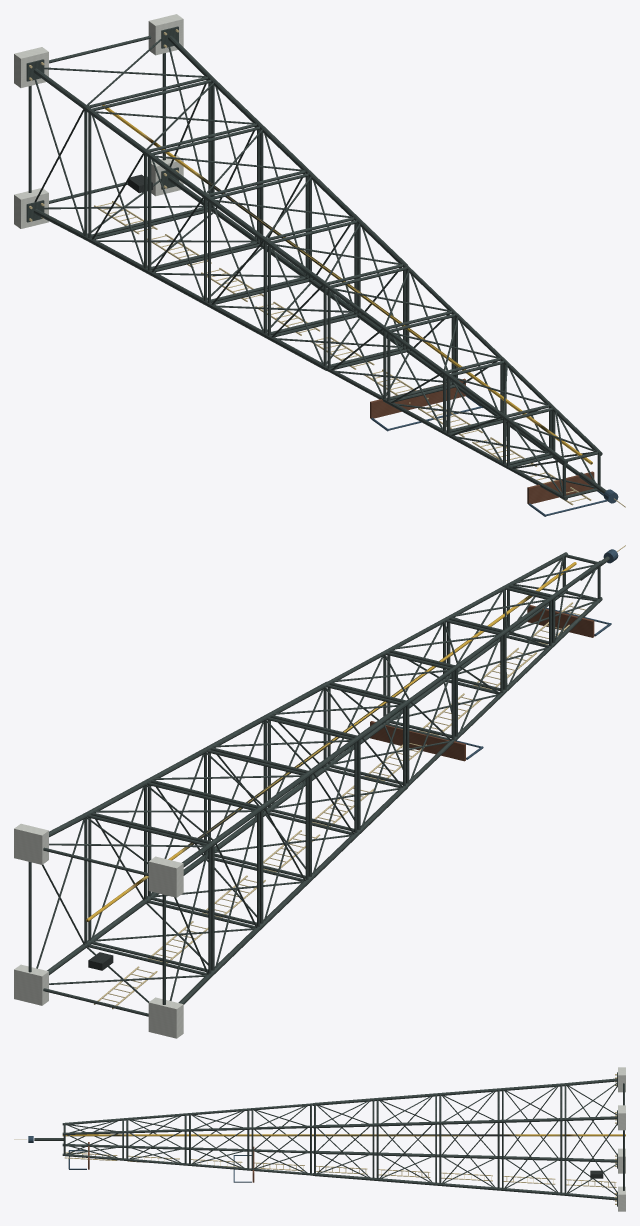
Rendered from RADIO_TOWER_local.glb.
3 views of the same model, one above another, from view 1: azimuth 30°, elevation 25°; view 2: azimuth 150°, elevation 25°; view 3: azimuth 270°, elevation 25° (orthographic). The views are drawn at different scales.
Parts seen in each view (by area): view 1: TOWER_TRUSS_TIER_02_HorizontalRings, TOWER_TRUSS_TIER_01_HorizontalRings, TOWER_TRUSS_TIER_03_HorizontalRings, TOWER_TRUSS_TIER_04_HorizontalRings, TOWER_TRUSS_TIER_01_XDiagonalBracing, TOWER_TRUSS_TIER_05_HorizontalRings, TOWER_TRUSS_TIER_02_XDiagonalBracing, TOWER_TRUSS_TIER_03_XDiagonalBracing, TOWER_TRUSS_TIER_06_HorizontalRings, TOWER_Waveguide_CableRiser, TOWER_TRUSS_TIER_04_XDiagonalBracing, TOWER_TRUSS_TIER_07_HorizontalRings (+21 smaller); view 2: TOWER_TRUSS_TIER_01_HorizontalRings, TOWER_TRUSS_TIER_02_HorizontalRings, TOWER_TRUSS_TIER_03_HorizontalRings, TOWER_TRUSS_TIER_04_HorizontalRings, TOWER_TRUSS_TIER_02_XDiagonalBracing, TOWER_TRUSS_TIER_05_HorizontalRings, TOWER_TRUSS_TIER_01_XDiagonalBracing, TOWER_TRUSS_TIER_06_HorizontalRings, TOWER_TRUSS_TIER_03_XDiagonalBracing, TOWER_Waveguide_CableRiser, TOWER_TRUSS_TIER_04_XDiagonalBracing, TOWER_TRUSS_TIER_07_HorizontalRings (+22 smaller); view 3: TOWER_Waveguide_CableRiser, TOWER_TRUSS_TIER_02_4_TaperedLegs, TOWER_TRUSS_TIER_04_4_TaperedLegs, TOWER_TRUSS_TIER_03_4_TaperedLegs, TOWER_TRUSS_TIER_05_4_TaperedLegs, TOWER_TRUSS_TIER_02_XDiagonalBracing, TOWER_TRUSS_TIER_01_XDiagonalBracing, TOWER_TRUSS_TIER_03_XDiagonalBracing, TOWER_TRUSS_TIER_04_XDiagonalBracing, TOWER_TRUSS_TIER_01_4_TaperedLegs, TOWER_TRUSS_TIER_07_4_TaperedLegs, TOWER_TRUSS_TIER_05_XDiagonalBracing (+15 smaller).
Boxes of the visible parts, <box> form: TOWER_TRUSS_TIER_02_HorizontalRings: <box>88,79,259,269</box>; TOWER_TRUSS_TIER_01_HorizontalRings: <box>28,35,211,237</box>; TOWER_TRUSS_TIER_03_HorizontalRings: <box>148,126,308,302</box>; TOWER_TRUSS_TIER_04_HorizontalRings: <box>208,173,357,334</box>; TOWER_TRUSS_TIER_01_XDiagonalBracing: <box>34,39,207,235</box>; TOWER_TRUSS_TIER_05_HorizontalRings: <box>267,220,405,367</box>; TOWER_TRUSS_TIER_02_XDiagonalBracing: <box>92,82,256,267</box>; TOWER_TRUSS_TIER_03_XDiagonalBracing: <box>151,129,305,300</box>; TOWER_TRUSS_TIER_06_HorizontalRings: <box>327,267,454,399</box>; TOWER_Waveguide_CableRiser: <box>102,105,592,464</box>; TOWER_TRUSS_TIER_04_XDiagonalBracing: <box>211,176,354,332</box>; TOWER_TRUSS_TIER_07_HorizontalRings: <box>387,314,503,432</box>; TOWER_TRUSS_TIER_01_HorizontalRings: <box>28,814,211,1016</box>; TOWER_TRUSS_TIER_02_HorizontalRings: <box>88,782,259,971</box>; TOWER_TRUSS_TIER_03_HorizontalRings: <box>148,749,308,925</box>; TOWER_TRUSS_TIER_04_HorizontalRings: <box>208,717,357,878</box>; TOWER_TRUSS_TIER_02_XDiagonalBracing: <box>92,784,257,967</box>; TOWER_TRUSS_TIER_05_HorizontalRings: <box>267,684,405,831</box>; TOWER_TRUSS_TIER_01_XDiagonalBracing: <box>36,816,208,1002</box>; TOWER_TRUSS_TIER_06_HorizontalRings: <box>327,651,454,784</box>; TOWER_TRUSS_TIER_03_XDiagonalBracing: <box>152,751,305,920</box>; TOWER_Waveguide_CableRiser: <box>86,562,576,921</box>; TOWER_TRUSS_TIER_04_XDiagonalBracing: <box>214,719,354,873</box>; TOWER_TRUSS_TIER_07_HorizontalRings: <box>387,619,503,737</box>; TOWER_Waveguide_CableRiser: <box>62,1134,625,1136</box>; TOWER_TRUSS_TIER_02_4_TaperedLegs: <box>500,1083,563,1195</box>; TOWER_TRUSS_TIER_04_4_TaperedLegs: <box>375,1093,438,1185</box>; TOWER_TRUSS_TIER_03_4_TaperedLegs: <box>438,1088,500,1190</box>; TOWER_TRUSS_TIER_05_4_TaperedLegs: <box>313,1098,375,1180</box>; TOWER_TRUSS_TIER_02_XDiagonalBracing: <box>504,1085,558,1192</box>; TOWER_TRUSS_TIER_01_XDiagonalBracing: <box>566,1082,617,1195</box>; TOWER_TRUSS_TIER_03_XDiagonalBracing: <box>441,1090,495,1187</box>; TOWER_TRUSS_TIER_04_XDiagonalBracing: <box>379,1095,432,1182</box>; TOWER_TRUSS_TIER_01_4_TaperedLegs: <box>563,1078,616,1200</box>; TOWER_TRUSS_TIER_07_4_TaperedLegs: <box>187,1108,250,1170</box>; TOWER_TRUSS_TIER_05_XDiagonalBracing: <box>316,1100,370,1177</box>.
Size of the model in its own units: 5.2 by 5.2 by 29.33.
Materials: 1 (1 with a texture image).
